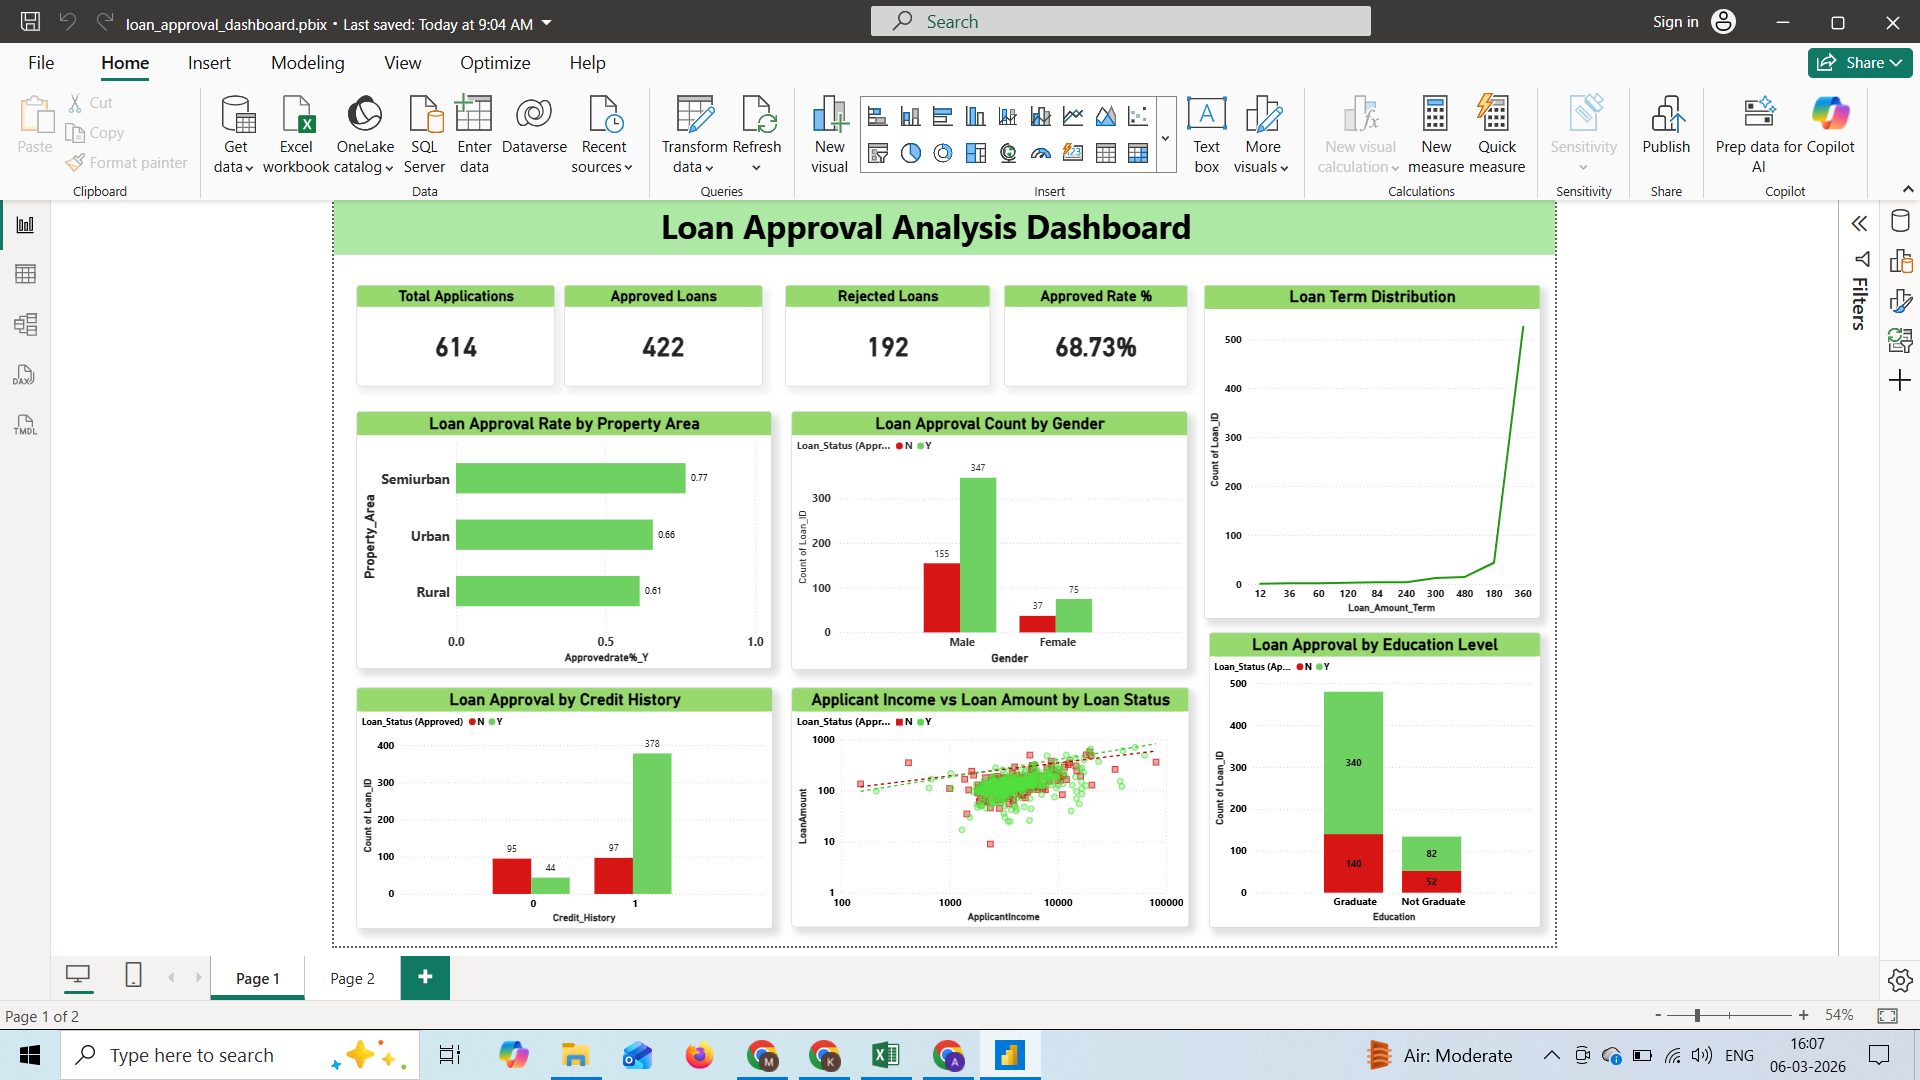

What the dashboard file says about the page in this screenshot:
{"tool":"powerbi","page":{"name":"Page 1","canvas":[1800,1100],"ordinal":0},"visuals":[{"type":"textbox","box":[0,0,1800.8,81.1],"z":0},{"type":"card","title":"Total Applications","fields":{"Values":["loan_approved.Total_Applicants"]},"box":[33.2,125.3,293.1,149.3],"z":1000},{"type":"card","title":"Approved Loans","fields":{"Values":["loan_approved.loan_approved"]},"box":[339.1,125.3,293.1,149.3],"z":2000},{"type":"card","title":"Rejected Loans","fields":{"Values":["loan_approved.Rejected_loans"]},"box":[665.4,125.3,302.3,149.3],"z":3000},{"type":"card","title":"Approved Rate %","fields":{"Values":["loan_approved.Approved_Rate%"]},"box":[987.9,125.3,270.9,149.3],"z":4000},{"type":"clusteredBarChart","title":"Loan Approval Rate by Property Area","fields":{"Category":["loan_approved.Property_Area"],"Y":["loan_approved.Approvedrate%_Y"]},"box":[33.2,311.5,611.9,379.7],"z":5000},{"type":"scatterChart","title":"Applicant Income vs Loan Amount by Loan Status","fields":{"Series":["loan_approved.Loan_Status (Approved)"],"X":["loan_approved.ApplicantIncome"],"Y":["loan_approved.LoanAmount"]},"box":[674.6,718.8,586.1,353.9],"z":6000},{"type":"clusteredColumnChart","title":"Loan Approval by Credit History","fields":{"Category":["loan_approved.Credit_History"],"Series":["loan_approved.Loan_Status (Approved)"],"Y":["CountNonNull(loan_approved.Loan_ID)"]},"box":[33.2,718.8,613.8,355.7],"z":7000},{"type":"clusteredColumnChart","title":"Loan Approval Count by Gender","fields":{"Category":["loan_approved.Gender"],"Series":["loan_approved.Loan_Status (Approved)"],"Y":["CountNonNull(loan_approved.Loan_ID)"]},"box":[674.6,311.5,584.3,381.5],"z":8000},{"type":"lineChart","title":"Loan Term Distribution","fields":{"Category":["loan_approved.Loan_Amount_Term"],"Y":["CountNonNull(loan_approved.Loan_ID)"]},"box":[1282.8,125.3,495.8,492.1],"z":9000},{"type":"columnChart","title":"Loan Approval by Education Level","fields":{"Category":["loan_approved.Education"],"Series":["loan_approved.Loan_Status (Approved)"],"Y":["CountNonNull(loan_approved.Loan_ID)"]},"box":[1290.2,637.7,488.4,435],"z":10000}]}

Visuals, with their boxes on the page's 1800x1100 design canvas (x1, y1, x2, y2). These are canvas units, not pixel positions in the 1920x1080 screenshot, which may show the page scaled, cropped or inside an application window:
textbox: box=[0, 0, 1801, 81]
"Total Applications" card: box=[33, 125, 326, 275]
"Approved Loans" card: box=[339, 125, 632, 275]
"Rejected Loans" card: box=[665, 125, 968, 275]
"Approved Rate %" card: box=[988, 125, 1259, 275]
"Loan Approval Rate by Property Area" clusteredBarChart: box=[33, 312, 645, 691]
"Applicant Income vs Loan Amount by Loan Status" scatterChart: box=[675, 719, 1261, 1073]
"Loan Approval by Credit History" clusteredColumnChart: box=[33, 719, 647, 1074]
"Loan Approval Count by Gender" clusteredColumnChart: box=[675, 312, 1259, 693]
"Loan Term Distribution" lineChart: box=[1283, 125, 1779, 617]
"Loan Approval by Education Level" columnChart: box=[1290, 638, 1779, 1073]
